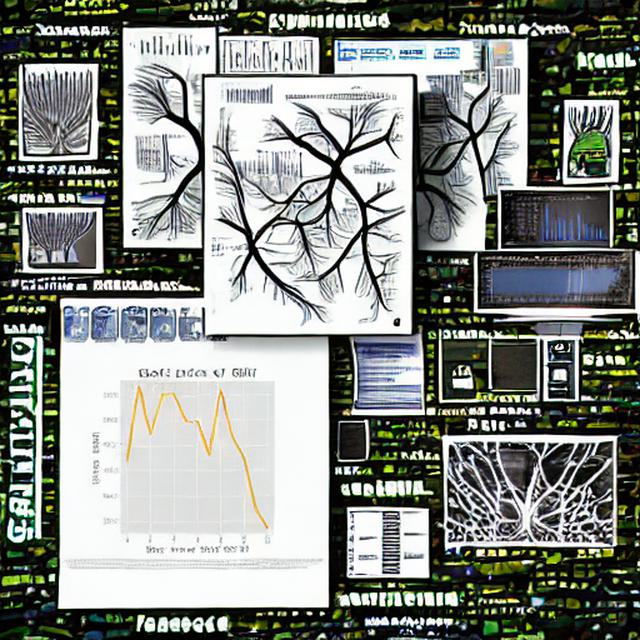Graph: (61, 356, 327, 556), (530, 196, 610, 248), (129, 29, 202, 61), (219, 79, 273, 107)
